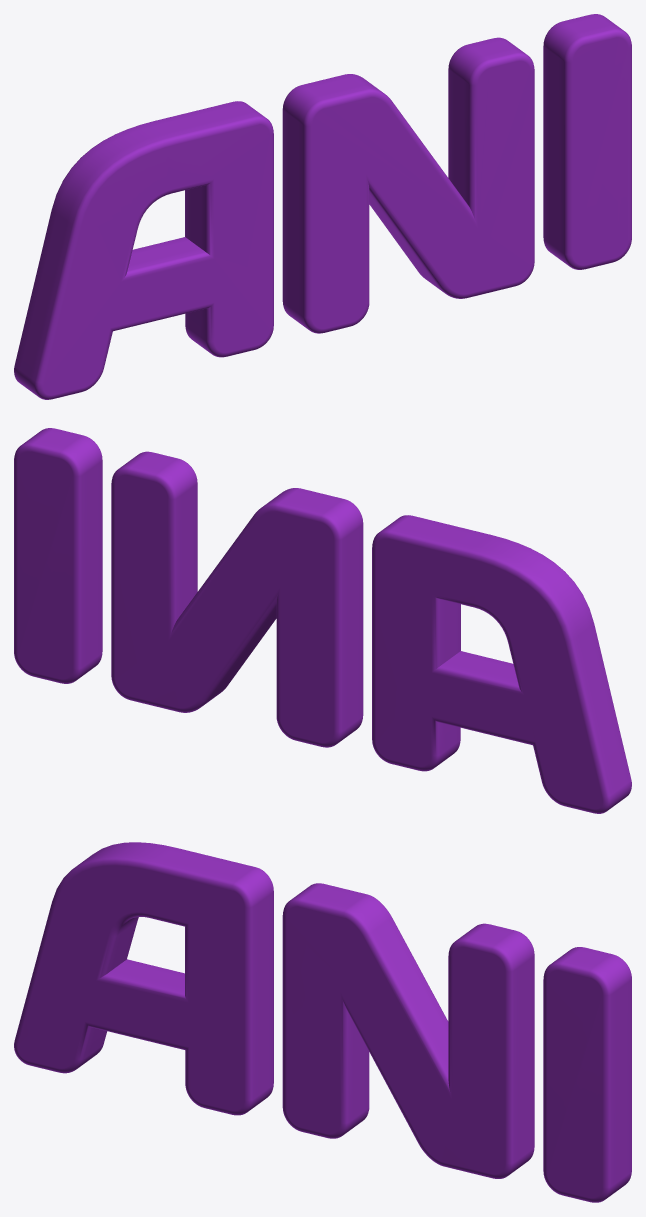
File: ANI.glb
3 views of the same model, one above another, from view 1: azimuth 30°, elevation 25°; view 2: azimuth 150°, elevation 25°; view 3: azimuth 330°, elevation 25° (orthographic).
Visible parts, largest first — view 1: a5; view 2: a5; view 3: a5.
Part boxes in pixels (left/top/right/bottom): a5: left=14, top=14, right=631, bottom=399; a5: left=14, top=428, right=631, bottom=813; a5: left=14, top=842, right=631, bottom=1202.
Size of the model in its own units: 33.94 by 12.67 by 2.5.
